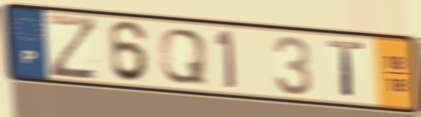1: (213, 28, 238, 92)
3: (272, 34, 314, 96)
6: (107, 20, 150, 85)
Q: (157, 26, 209, 86)
T: (325, 37, 367, 101)
Z: (44, 12, 100, 82)
